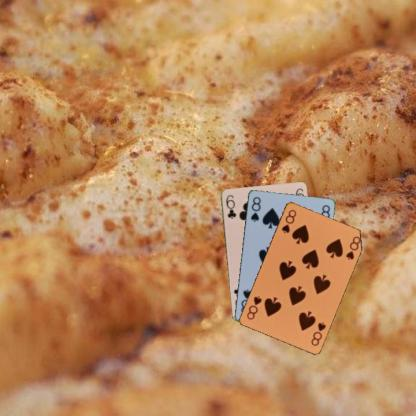6c: (223, 192, 237, 220)
8s: (279, 207, 298, 234), (309, 319, 327, 347), (248, 194, 262, 223)
